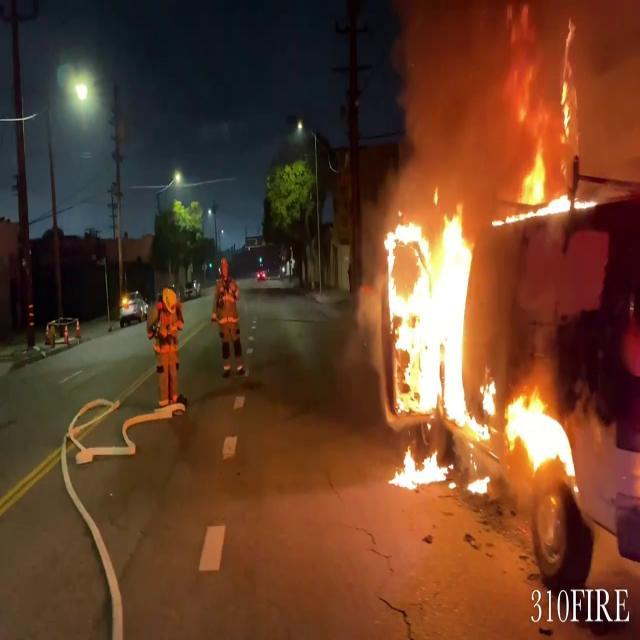Fire: (376, 194, 471, 412), (469, 368, 587, 484), (494, 153, 580, 229), (388, 436, 490, 498)
Smoke: (364, 0, 580, 200)
